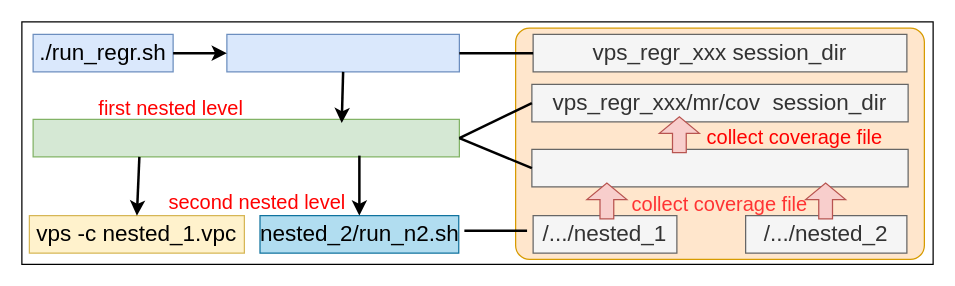
This 955x286 diagram has some shape labels left out. Here are the shapes that lost their labels. From the top down, the centre of each, then its label:
point 342,52: vps -c vps_regr.vpc
point 245,137: mr/cov/run.sh
point 719,167: /.../cov session_dir
